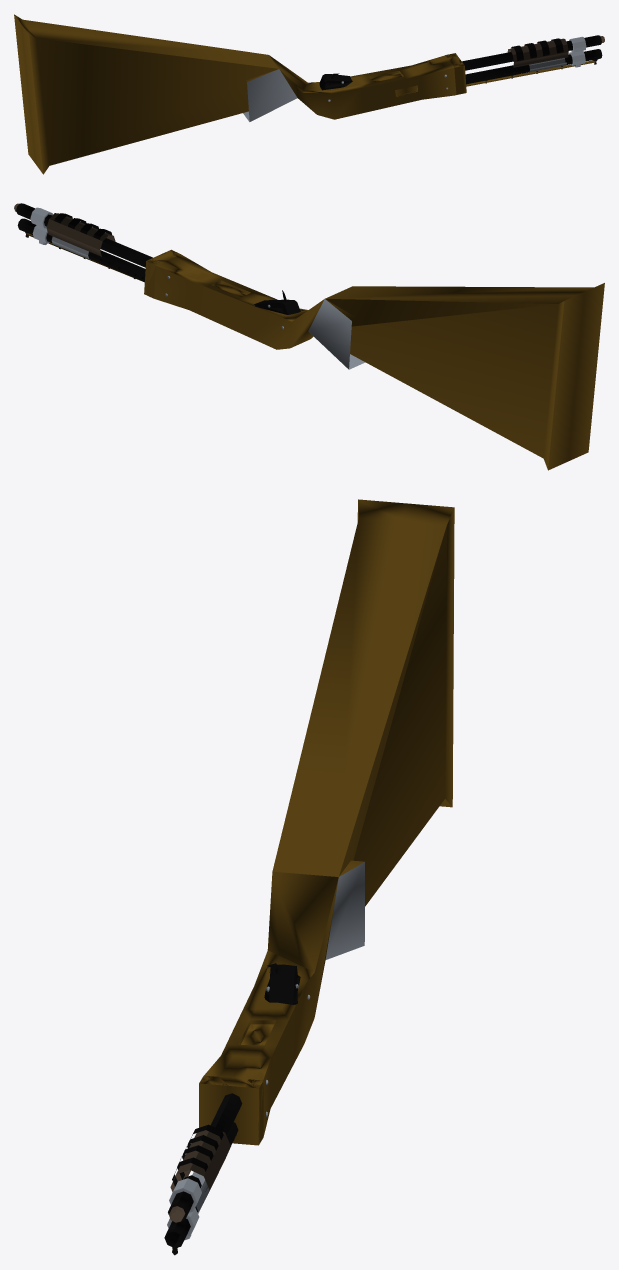
The model's file is Gun.fbx.
The picture shows the model from 3 angles, top to bottom: view 1: azimuth 30°, elevation 25°; view 2: azimuth 150°, elevation 25°; view 3: azimuth 270°, elevation 25°; orthographic projection. The views are drawn at different scales.
Parts seen in each view (by area): view 1: Cube; view 2: Cube; view 3: Cube.
Part boxes in pixels (bbox=[...]): Cube: bbox=[14, 14, 604, 174]; Cube: bbox=[14, 203, 604, 470]; Cube: bbox=[164, 499, 454, 1255].
Size of the model in its own units: 3093 by 801 by 733.
